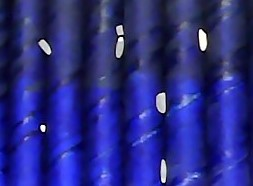broken_grain: (153, 91, 169, 115), (36, 38, 52, 59), (115, 24, 126, 36), (39, 123, 47, 134)
complete_grain: (158, 156, 171, 186), (114, 35, 126, 60), (197, 28, 209, 53)
